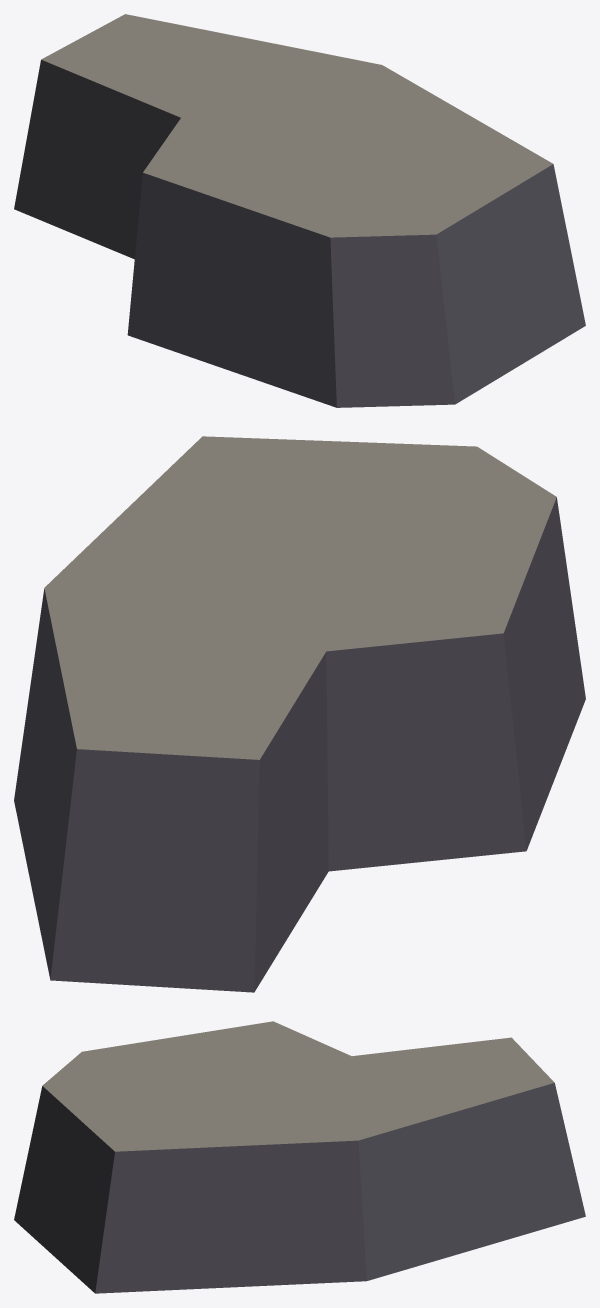
Rendered from TB_Env_RockF.FBX.
3 views of the same model, one above another, from view 1: azimuth 30°, elevation 25°; view 2: azimuth 150°, elevation 25°; view 3: azimuth 270°, elevation 25° (orthographic). The views are drawn at different scales.
Visible parts, largest first — view 1: TB_Env_RockF; view 2: TB_Env_RockF; view 3: TB_Env_RockF.
Boxes of the visible parts, <box> form: TB_Env_RockF: <box>14,14,585,407</box>; TB_Env_RockF: <box>14,436,585,992</box>; TB_Env_RockF: <box>14,1021,585,1293</box>.
Size of the model in its own units: 1.95 by 0.8333 by 3.24.
